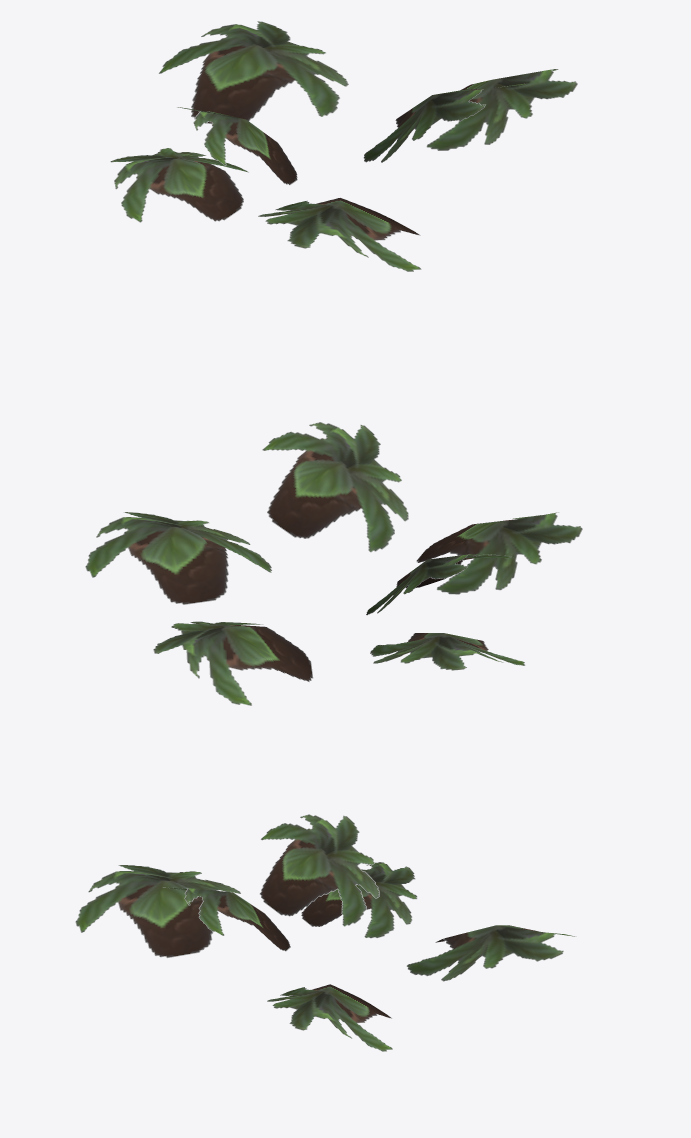
Rendered from Plant.FBX.
3 renders of one model, top to bottom at view 1: azimuth 30°, elevation 25°; view 2: azimuth 150°, elevation 25°; view 3: azimuth 270°, elevation 25°, orthographic. The views are drawn at different scales.
Parts seen in each view (by area): view 1: Plant; view 2: Plant; view 3: Plant.
Boxes of the visible parts, <box> form: Plant: <box>110,21,577,271</box>; Plant: <box>85,422,582,705</box>; Plant: <box>75,814,576,1051</box>.
Size of the model in its own units: 178 by 54.57 by 187.
